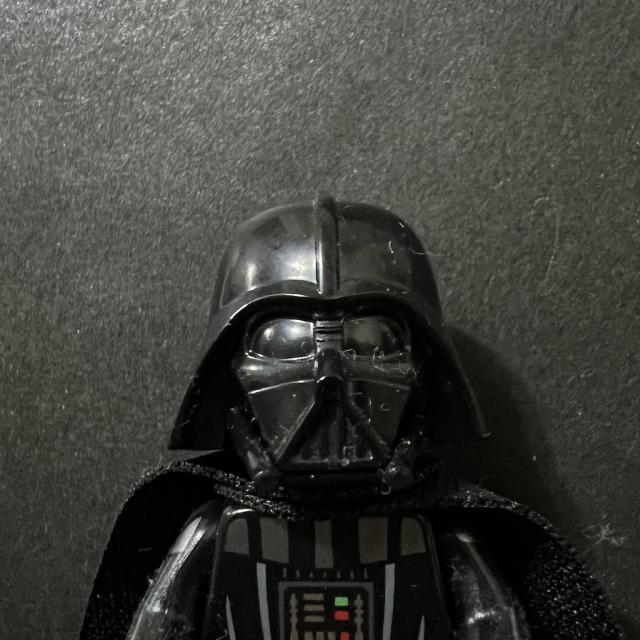alien: (179, 180, 471, 508)
